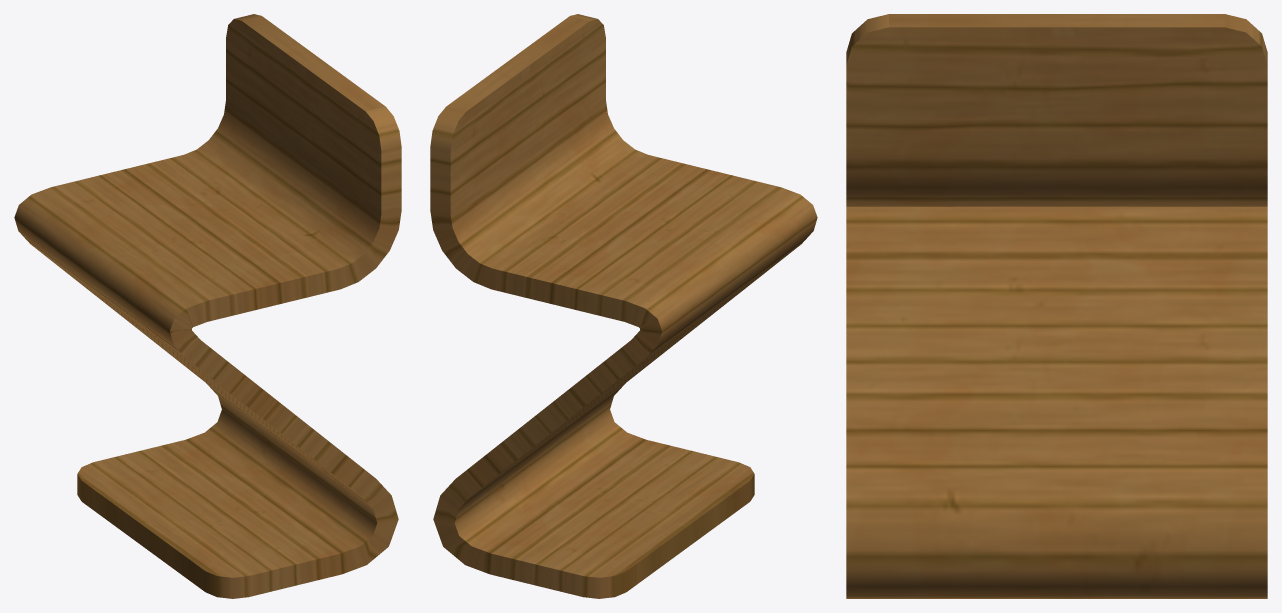
Rendered from BBQGrillChair.glb.
The picture shows the model from 3 angles, left to right: view 1: azimuth 30°, elevation 25°; view 2: azimuth 150°, elevation 25°; view 3: azimuth 270°, elevation 25°; orthographic projection. The views are drawn at different scales.
Parts seen in each view (by area): view 1: BBQChair; view 2: BBQChair; view 3: BBQChair.
Boxes of the visible parts, x1,y1,x2,y2 form: BBQChair: (14,14,401,598); BBQChair: (430,14,817,598); BBQChair: (846,14,1267,598).
Size of what is drawn, in the model's own units: 0.4588 by 0.8353 by 0.5329.
Materials: 1 (1 with a texture image).
